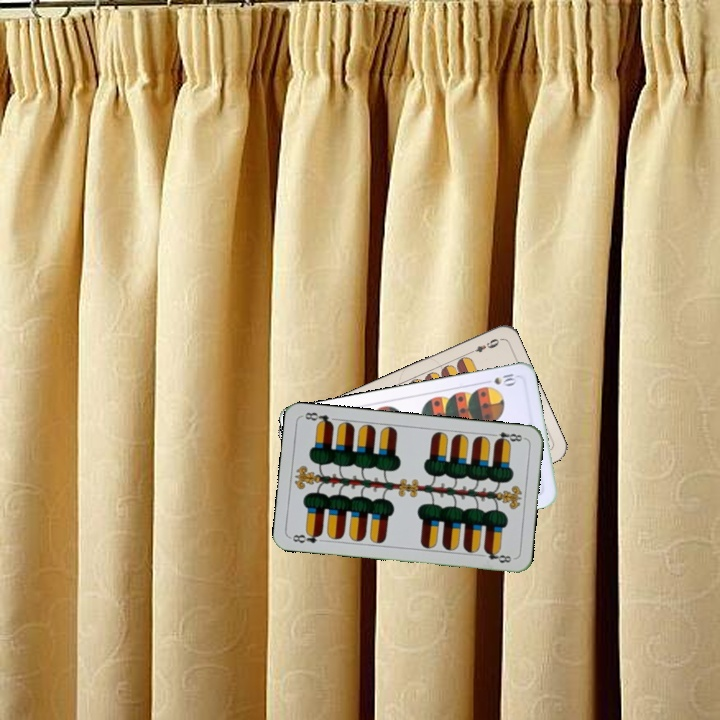E8: (487, 428, 527, 446), (287, 528, 325, 546)
E9: (465, 334, 502, 357)
S10: (479, 369, 519, 388)
